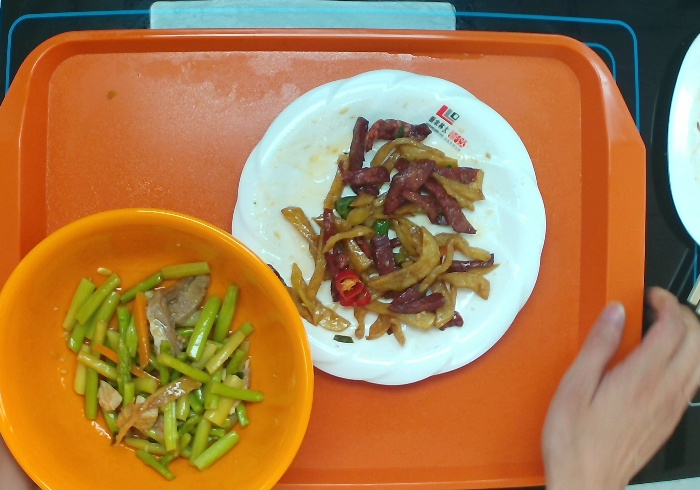ZNLD-Hua_Bian_Wan: (231, 70, 543, 389)
ZNLD-Ju_Se_Tang_Wan: (2, 208, 315, 490)
